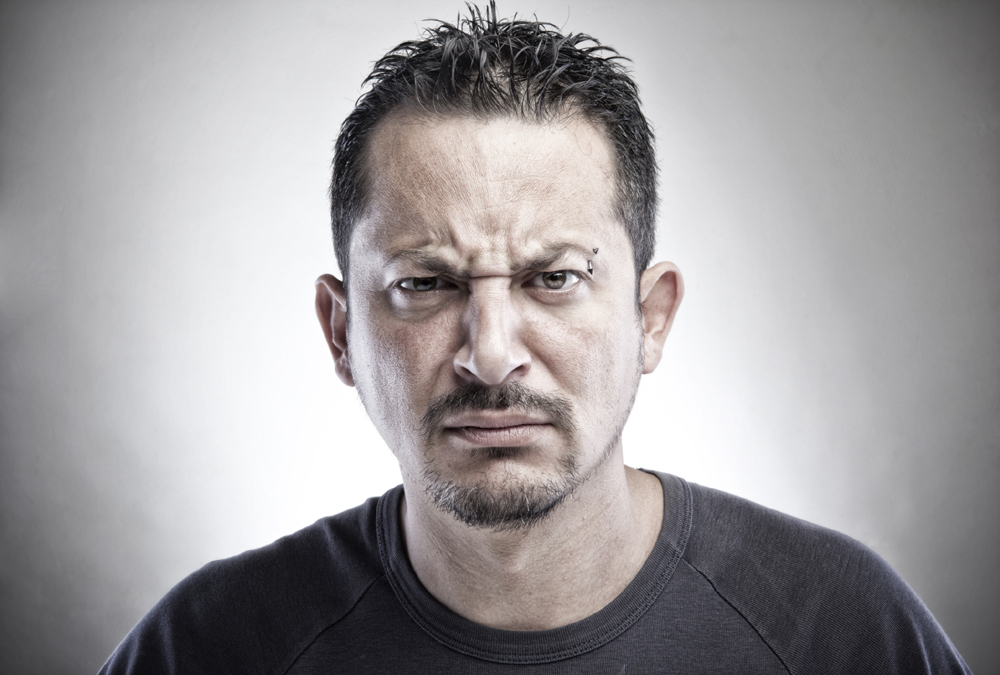angry: (369, 208, 640, 537)
